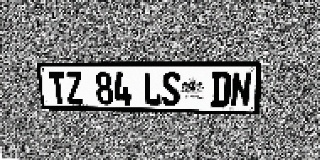4: (112, 72, 132, 105)
8: (95, 72, 114, 105)
D: (210, 72, 231, 107)
L: (143, 72, 162, 106)
N: (230, 72, 252, 107)
S: (162, 72, 180, 106)
T: (48, 72, 68, 104)
Z: (65, 72, 84, 104)
